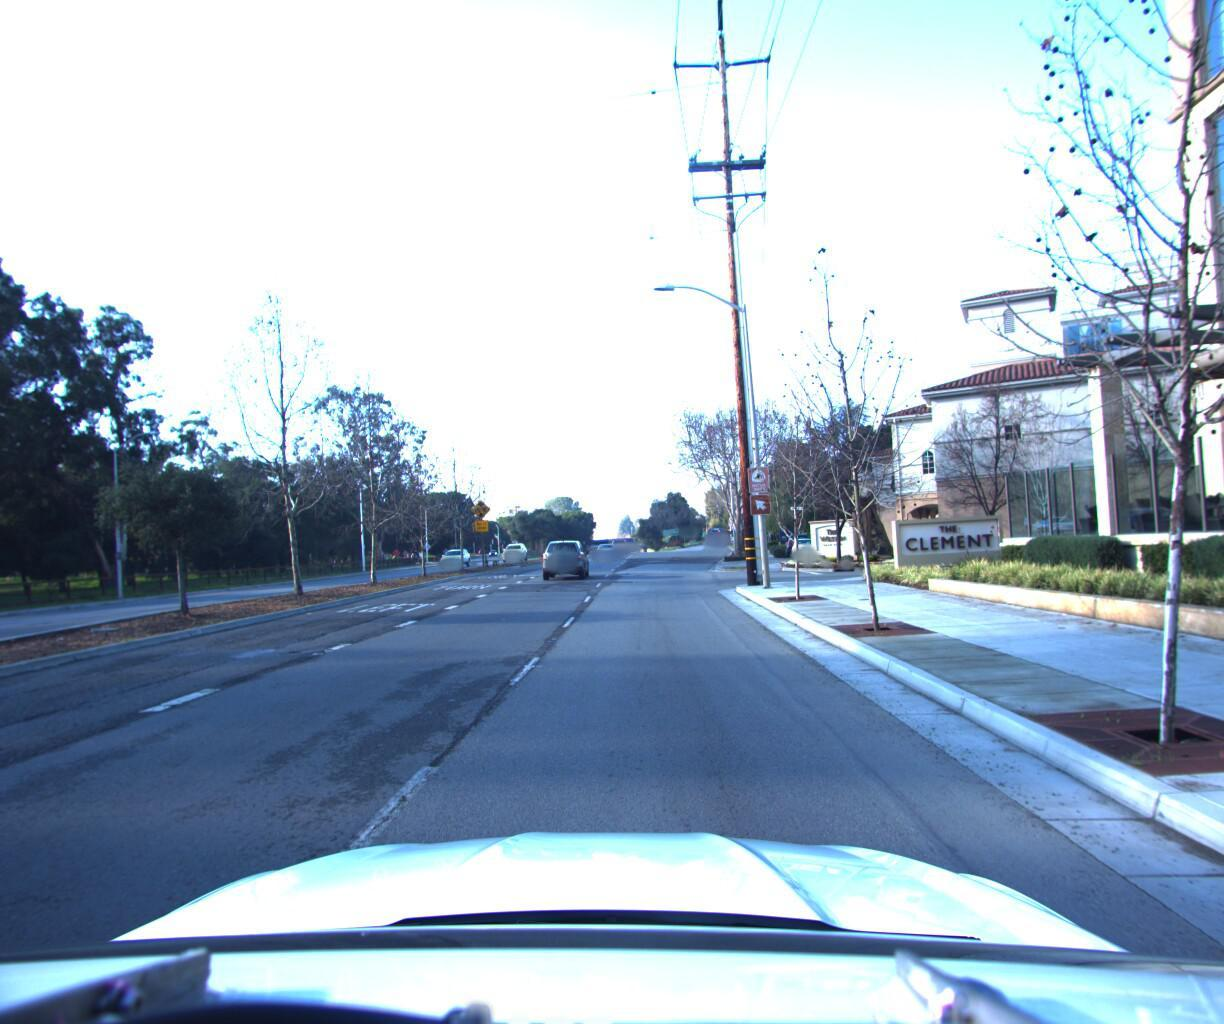car: (539, 532, 591, 576), (437, 541, 472, 563), (789, 530, 817, 553), (499, 537, 526, 557), (594, 539, 618, 558)
